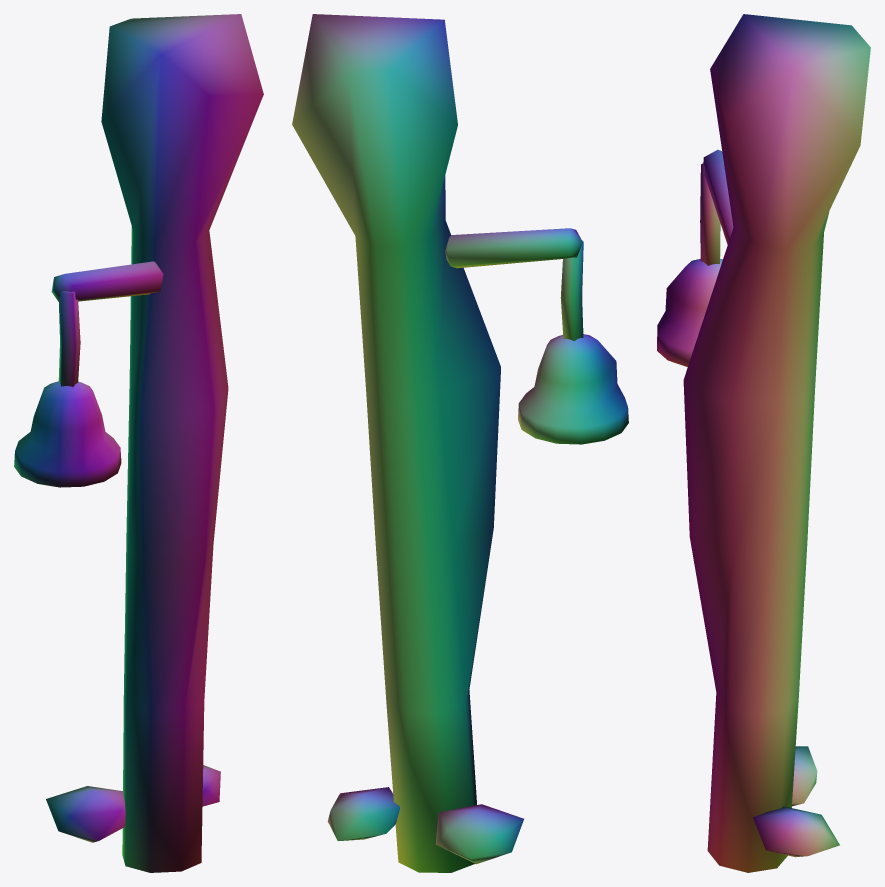
File: SM_Prop_March_HandbellPost.fbx
3 renders of one model, left to right at view 1: azimuth 30°, elevation 25°; view 2: azimuth 150°, elevation 25°; view 3: azimuth 270°, elevation 25°, orthographic. The views are drawn at different scales.
Visible parts, largest first — view 1: SM_Prop_March_HandbellPost; view 2: SM_Prop_March_HandbellPost; view 3: SM_Prop_March_HandbellPost.
Part boxes in pixels (x1,y1,x2,y2): SM_Prop_March_HandbellPost: (14,14,263,872); SM_Prop_March_HandbellPost: (292,14,628,872); SM_Prop_March_HandbellPost: (657,14,870,872).
Bounding box in the file's own units: 0.4808 × 1.43 × 0.3311.
